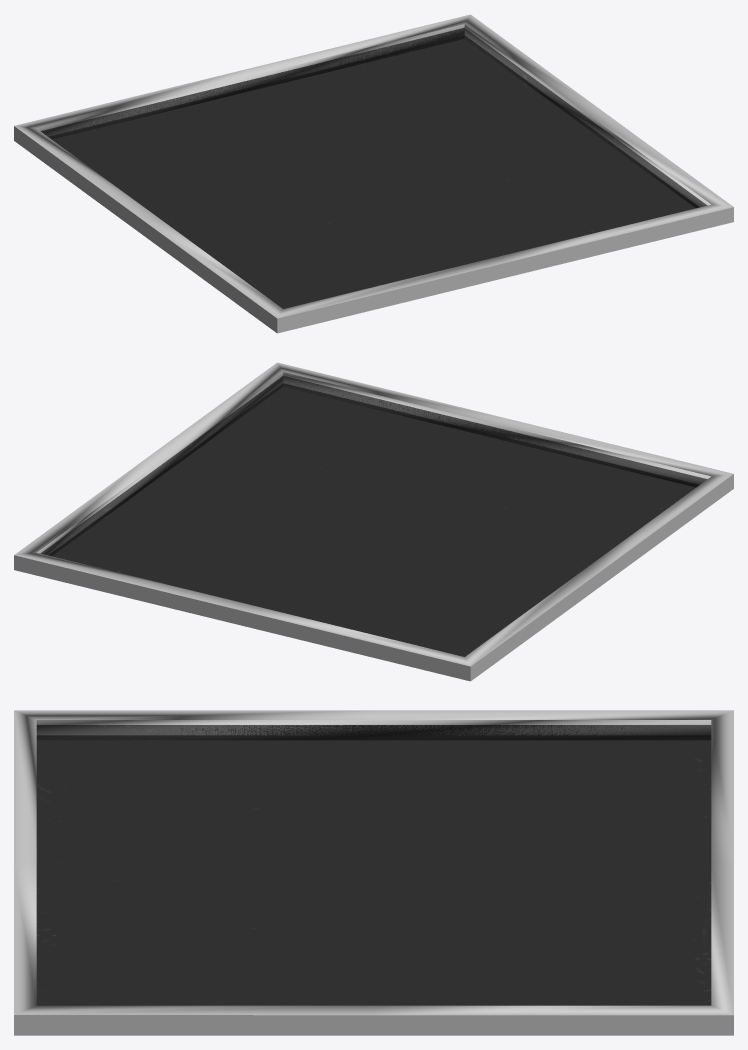
The model's file is glass_2x2.fbx.
3 views of the same model, one above another, from view 1: azimuth 30°, elevation 25°; view 2: azimuth 150°, elevation 25°; view 3: azimuth 270°, elevation 25° (orthographic). The views are drawn at different scales.
Visible parts, largest first — view 1: glass_2x2; view 2: glass_2x2; view 3: glass_2x2.
Boxes of the visible parts, x1,y1,x2,y2 form: glass_2x2: [14, 14, 733, 333]; glass_2x2: [14, 362, 733, 681]; glass_2x2: [14, 710, 733, 1035].
Size of the model in its own units: 80.09 by 2.5 by 79.97.
